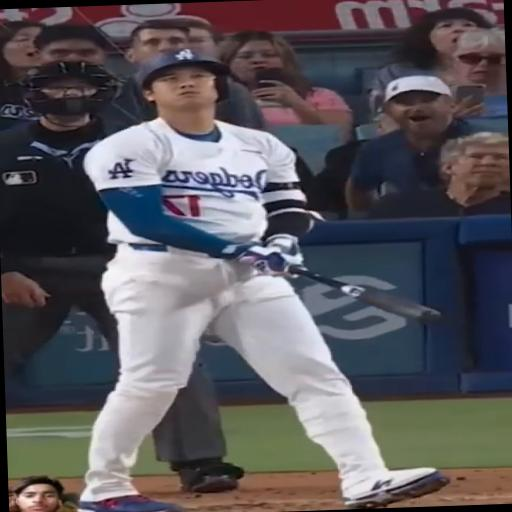bat: (288, 266, 440, 323)
